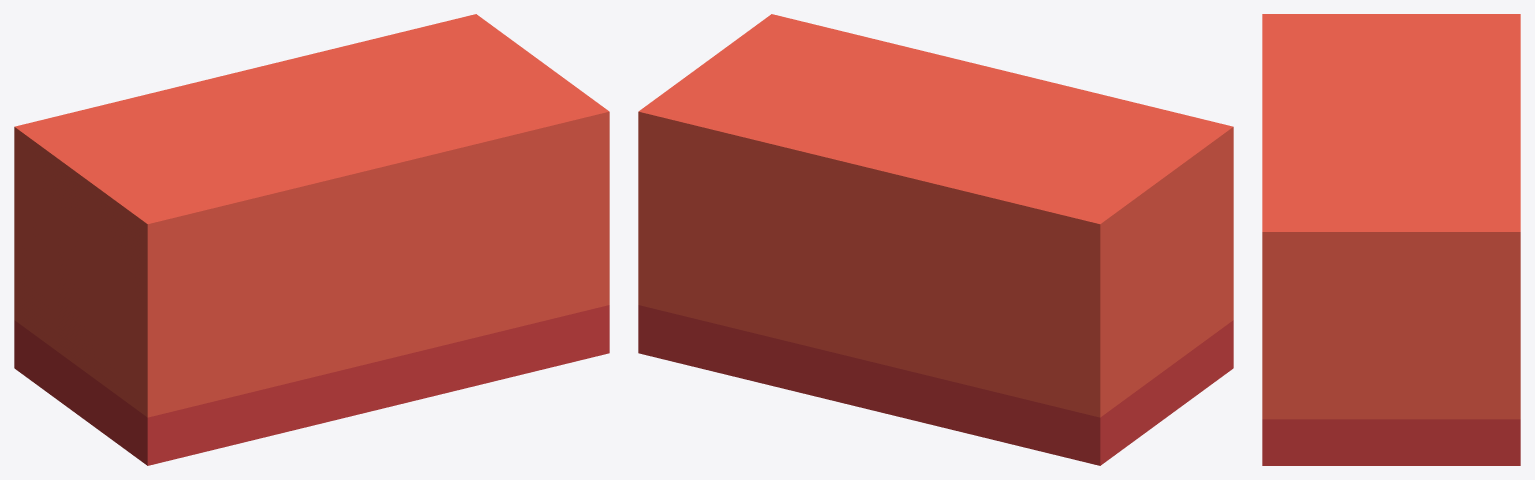
Rendered from Block.fbx.
3 views of the same model, side by side, from view 1: azimuth 30°, elevation 25°; view 2: azimuth 150°, elevation 25°; view 3: azimuth 270°, elevation 25° (orthographic). The views are drawn at different scales.
Parts seen in each view (by area): view 1: mergedBlocks; view 2: mergedBlocks; view 3: mergedBlocks.
Part boxes in pixels (x1,y1,x2,y2): mergedBlocks: [14, 14, 609, 465]; mergedBlocks: [638, 14, 1233, 465]; mergedBlocks: [1262, 14, 1520, 465].
Bounding box in the file's own units: 20 × 10 × 10.
